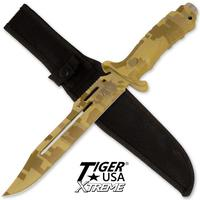knife: (2, 1, 193, 198)
